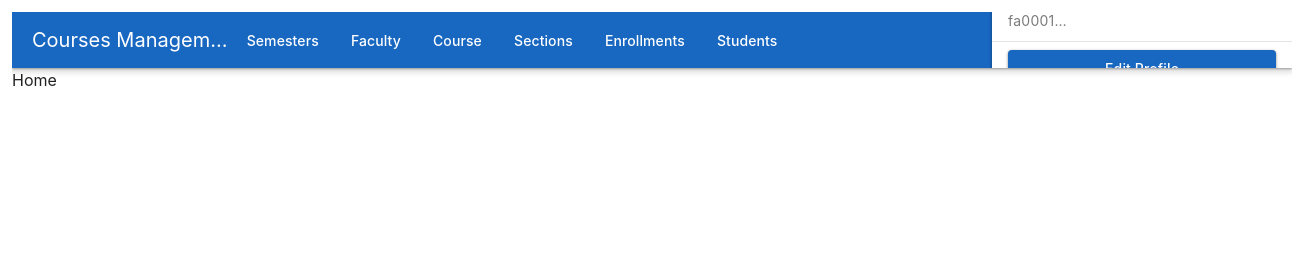
Test: Feature 3 — Course Management › US-3.1 — View Course List Page › Signed-in faculty navigates to course page
The image size is (1292, 269).
Click the button "Course" at (457, 40), box [417,22,498,58]
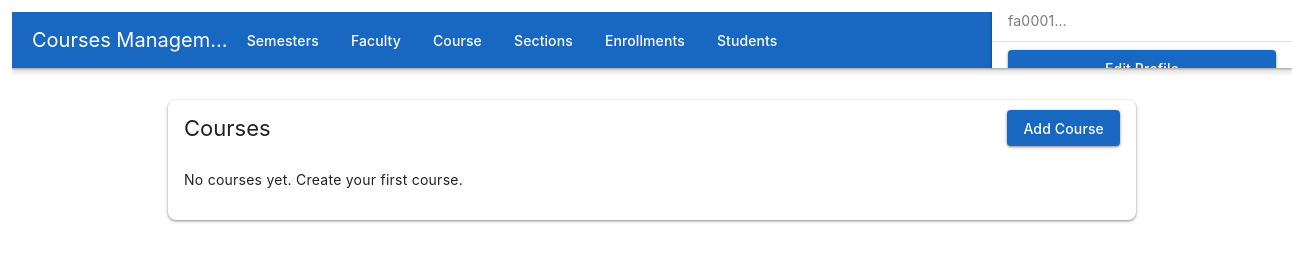
Expected: the text "Courses" is shown, [32,28,316,52]
Expected: the element showing "Courses Add Course No courses yet. Create your first course." is shown, [152,68,1152,252]
